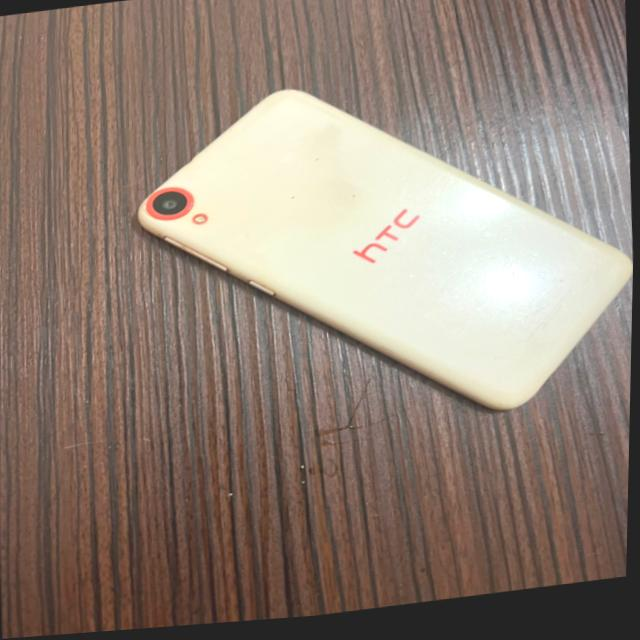Smartphone: (67, 77, 635, 458)
